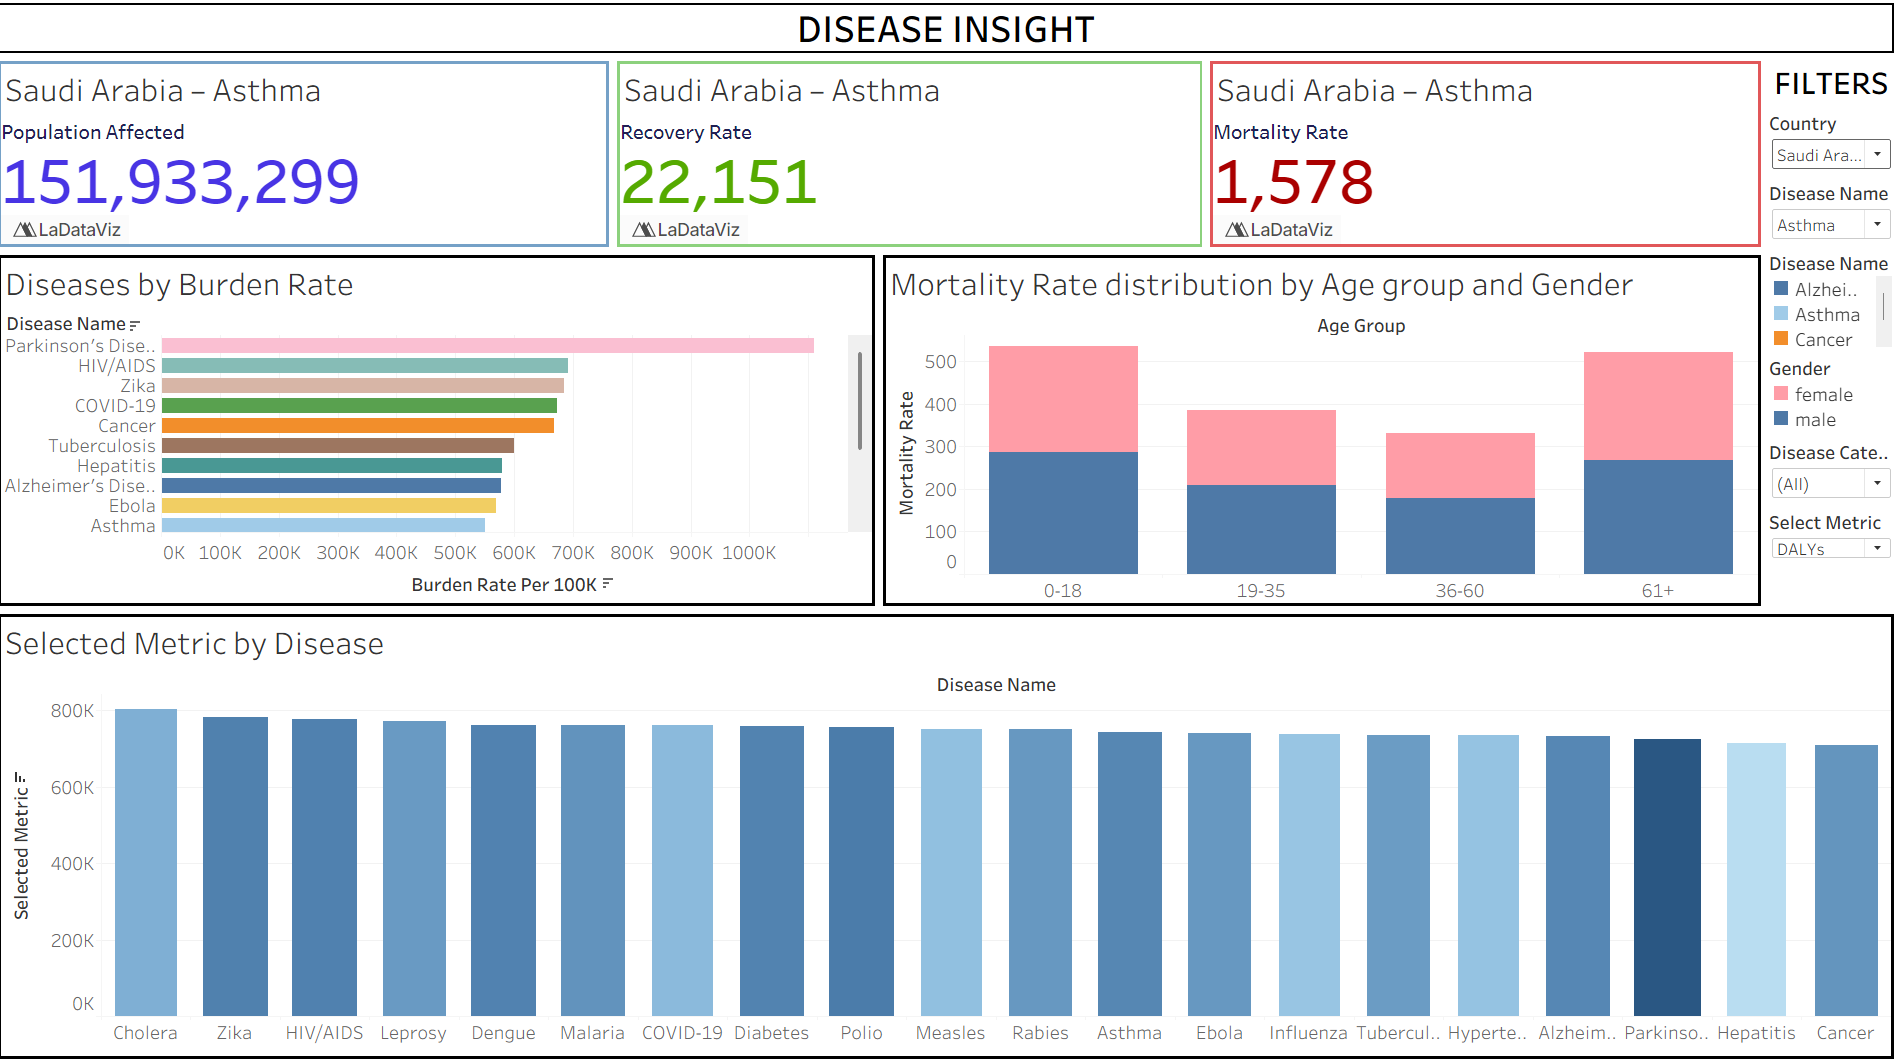

Layout of this report page (visuals, bound fields, positions):
{"tool":"tableau","page":{"name":"Diseases Insights Dashboard","canvas":[650,860],"ordinal":0},"visuals":[{"type":"worksheet","title":"KPI_population","box":[8,8,175,232]},{"type":"worksheet","title":"KPI_recovery","box":[183,8,168,232]},{"type":"worksheet","title":"KPI_mortality","box":[351,8,158,232]},{"type":"filter","title":"KPI_population","param":"[federated.0mcjdn40acfvmb1d8chxj1wd6kbu].[none:country:nk]","box":[509,8,133,46.4]},{"type":"filter","title":"KPI_population","param":"[federated.0mcjdn40acfvmb1d8chxj1wd6kbu].[none:disease_name:nk]","box":[509,54.4,133,46.4]},{"type":"filter","title":"KPI_recovery","param":"[federated.0mcjdn40acfvmb1d8chxj1wd6kbu].[none:country:nk]","box":[509,100.8,133,46.4]},{"type":"filter","title":"KPI_recovery","param":"[federated.0mcjdn40acfvmb1d8chxj1wd6kbu].[none:disease_name:nk]","box":[509,147.2,133,46.4]},{"type":"filter","title":"KPI_mortality","param":"[federated.0mcjdn40acfvmb1d8chxj1wd6kbu].[none:country:nk]","box":[509,193.6,133,46.4]},{"type":"worksheet","title":"Diseases by Burden Rate","mark":"Automatic","rows":["disease_name"],"cols":["burden_rate_per_100k"],"box":[8,240,250.5,232]},{"type":"worksheet","title":"Mortality Rate distribution by Age group and Gender","mark":"Automatic","rows":["mortality_rate"],"cols":["age_group"],"box":[258.5,240,250.5,232]},{"type":"filter","title":"KPI_mortality","param":"[federated.0mcjdn40acfvmb1d8chxj1wd6kbu].[none:disease_name:nk]","box":[509,240,133,46.4]},{"type":"legend","title":"Diseases by Burden Rate","param":"[federated.0mcjdn40acfvmb1d8chxj1wd6kbu].[none:disease_name:nk]","box":[509,286.4,133,46.4]},{"type":"legend","title":"Mortality Rate distribution by Age group and Gender","param":"[federated.0mcjdn40acfvmb1d8chxj1wd6kbu].[none:gender:nk]","box":[509,332.8,133,46.4]},{"type":"filter","title":"Selected Metric by Disease","param":"[federated.0mcjdn40acfvmb1d8chxj1wd6kbu].[none:disease_category:nk]","box":[509,379.2,133,46.4]},{"type":"parameter","param":"[Parameters].[Parameter 1]","box":[509,425.6,133,46.4]},{"type":"worksheet","title":"Selected Metric by Disease","mark":"Automatic","rows":["Calculation_2214082166858436616"],"cols":["disease_name"],"box":[8,472,634,380]}]}

Visuals, with their boxes on the page's 650x860 design canvas (x1, y1, x2, y2). These are canvas units, not pixel positions in the 1902x1062 screenshot, which may show the page scaled, cropped or inside an application window:
"KPI_population" worksheet: [x1=8, y1=8, x2=183, y2=240]
"KPI_recovery" worksheet: [x1=183, y1=8, x2=351, y2=240]
"KPI_mortality" worksheet: [x1=351, y1=8, x2=509, y2=240]
"KPI_population" filter: [x1=509, y1=8, x2=642, y2=54]
"KPI_population" filter: [x1=509, y1=54, x2=642, y2=101]
"KPI_recovery" filter: [x1=509, y1=101, x2=642, y2=147]
"KPI_recovery" filter: [x1=509, y1=147, x2=642, y2=194]
"KPI_mortality" filter: [x1=509, y1=194, x2=642, y2=240]
"Diseases by Burden Rate" worksheet: [x1=8, y1=240, x2=258, y2=472]
"Mortality Rate distribution by Age group and Gender" worksheet: [x1=258, y1=240, x2=509, y2=472]
"KPI_mortality" filter: [x1=509, y1=240, x2=642, y2=286]
"Diseases by Burden Rate" legend: [x1=509, y1=286, x2=642, y2=333]
"Mortality Rate distribution by Age group and Gender" legend: [x1=509, y1=333, x2=642, y2=379]
"Selected Metric by Disease" filter: [x1=509, y1=379, x2=642, y2=426]
parameter: [x1=509, y1=426, x2=642, y2=472]
"Selected Metric by Disease" worksheet: [x1=8, y1=472, x2=642, y2=852]
